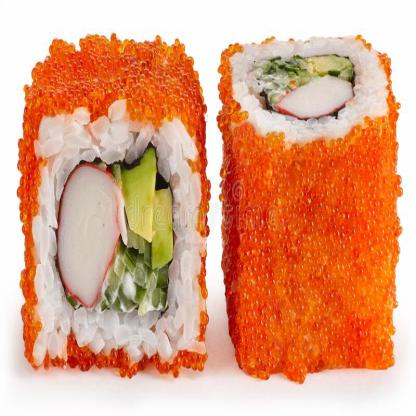masago: (16, 24, 217, 389)
